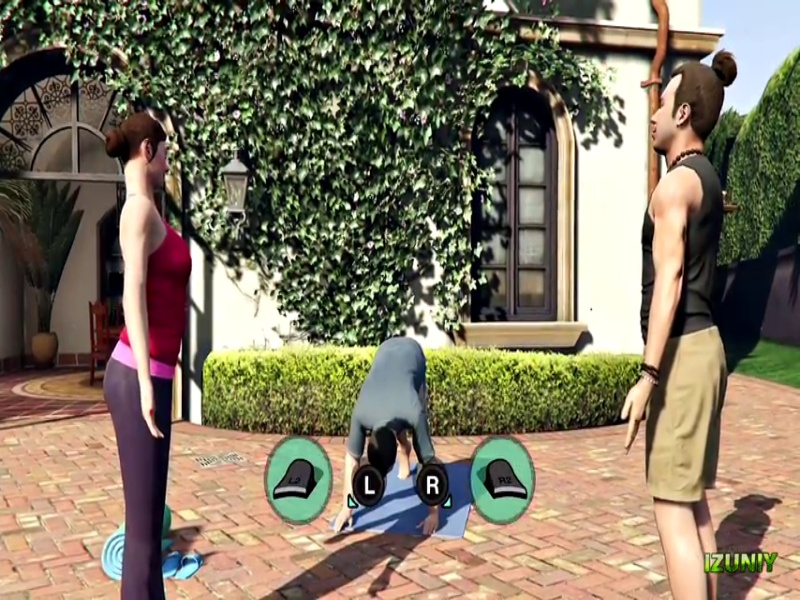licenseplate: (193, 96, 600, 120)
